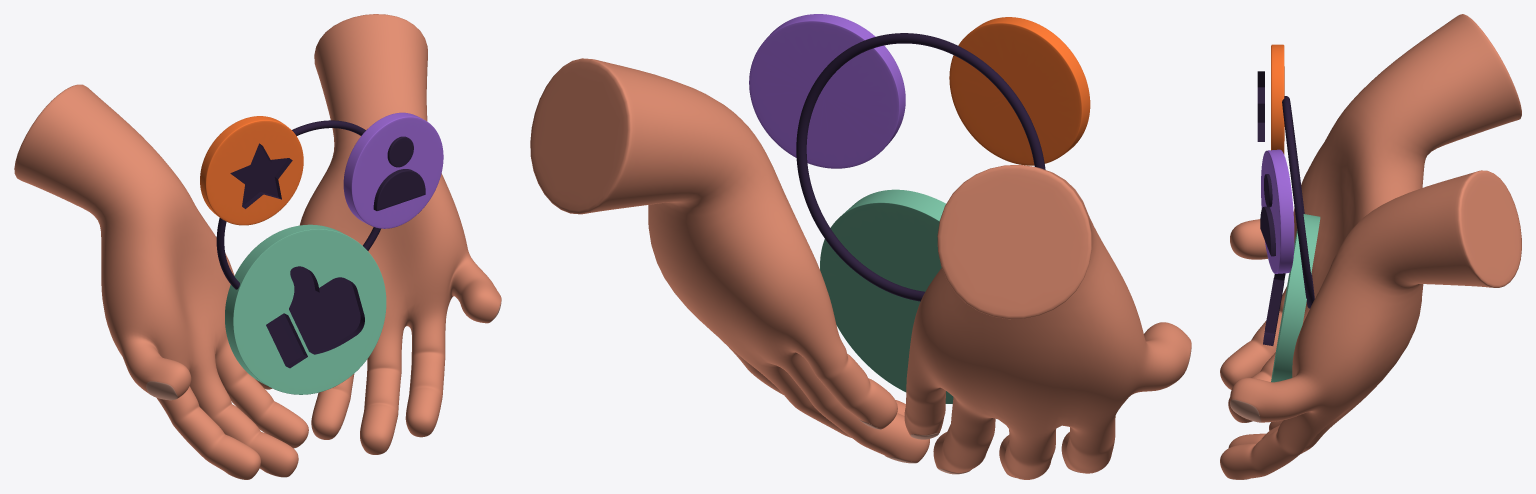
The model's file is customer-engagement-3d-animated-icon-826607043678.glb.
3 renders of one model, left to right at view 1: azimuth 30°, elevation 25°; view 2: azimuth 150°, elevation 25°; view 3: azimuth 270°, elevation 25°, orthographic. The views are drawn at different scales.
Parts seen in each view (by area): view 1: Vert.001, Vert.002, Cylinder.003, Cylinder.002, Cylinder.004, BezierCircle; view 2: Vert.002, Vert.001, Cylinder.002, Cylinder.003, Cylinder.004, BezierCircle; view 3: Vert.002, Vert.001, Cylinder.003, Cylinder.002, Cylinder.004, BezierCircle.
Boxes of the visible parts, x1,y1,x2,y2 form: Vert.001: [14, 84, 308, 479]; Vert.002: [299, 14, 501, 454]; Cylinder.003: [225, 224, 386, 394]; Cylinder.002: [343, 112, 443, 228]; Cylinder.004: [200, 116, 303, 225]; BezierCircle: [216, 120, 380, 289]; Vert.002: [530, 58, 929, 463]; Vert.001: [904, 165, 1191, 479]; Cylinder.002: [749, 14, 905, 168]; Cylinder.003: [820, 189, 953, 403]; Cylinder.004: [949, 17, 1090, 165]; BezierCircle: [796, 33, 1045, 301]; Vert.002: [1220, 170, 1521, 479]; Vert.001: [1220, 14, 1521, 422]; Cylinder.003: [1263, 214, 1320, 382]; Cylinder.002: [1260, 149, 1294, 273]; Cylinder.004: [1257, 44, 1284, 154]; BezierCircle: [1282, 96, 1314, 308].
Size of the model in its own units: 1.8 by 1.46 by 1.1.
